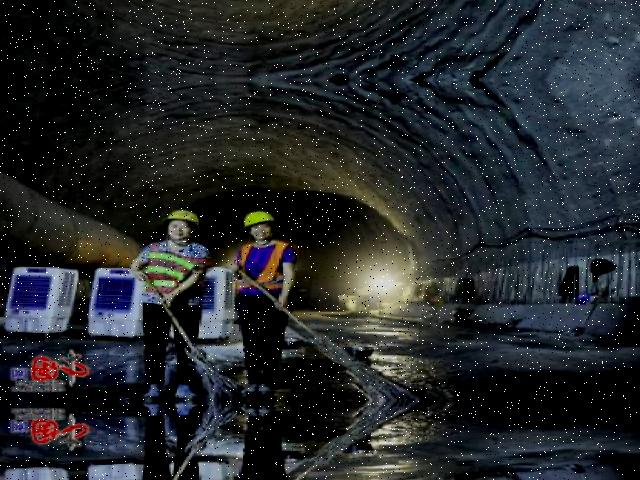Helmet: (165, 204, 208, 229), (242, 205, 280, 231)
